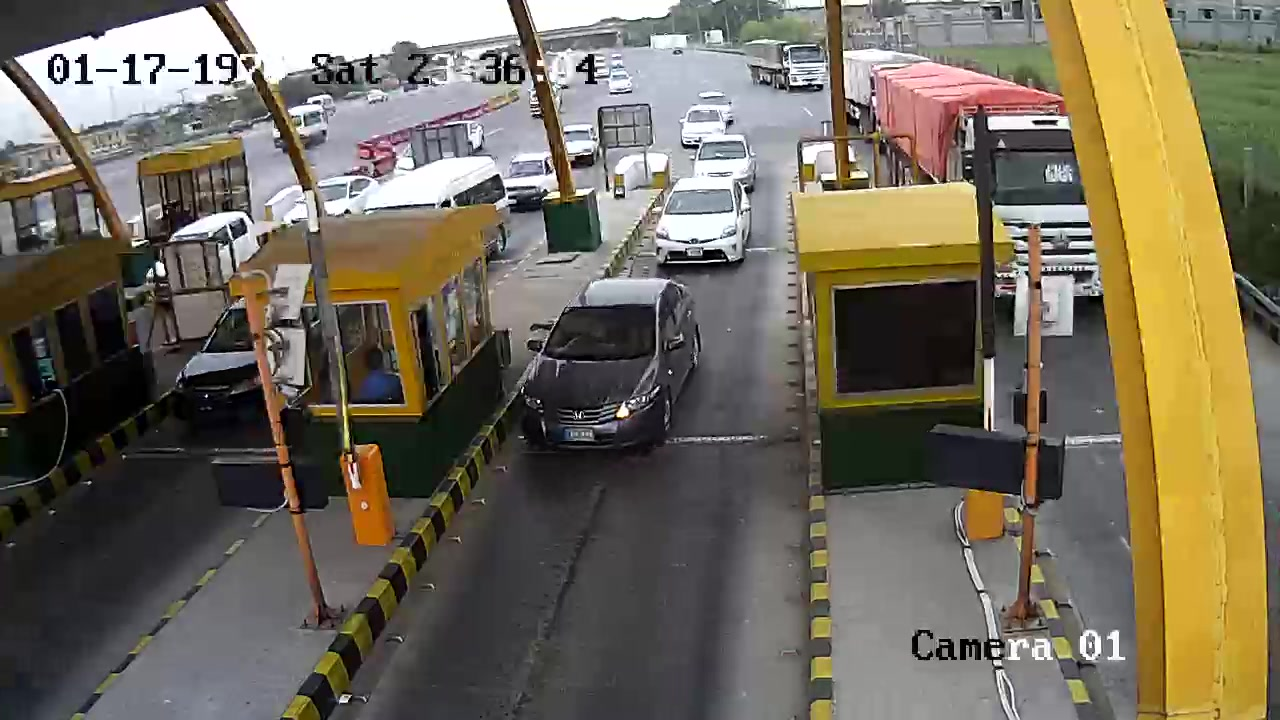F1: (521, 269, 713, 464)
